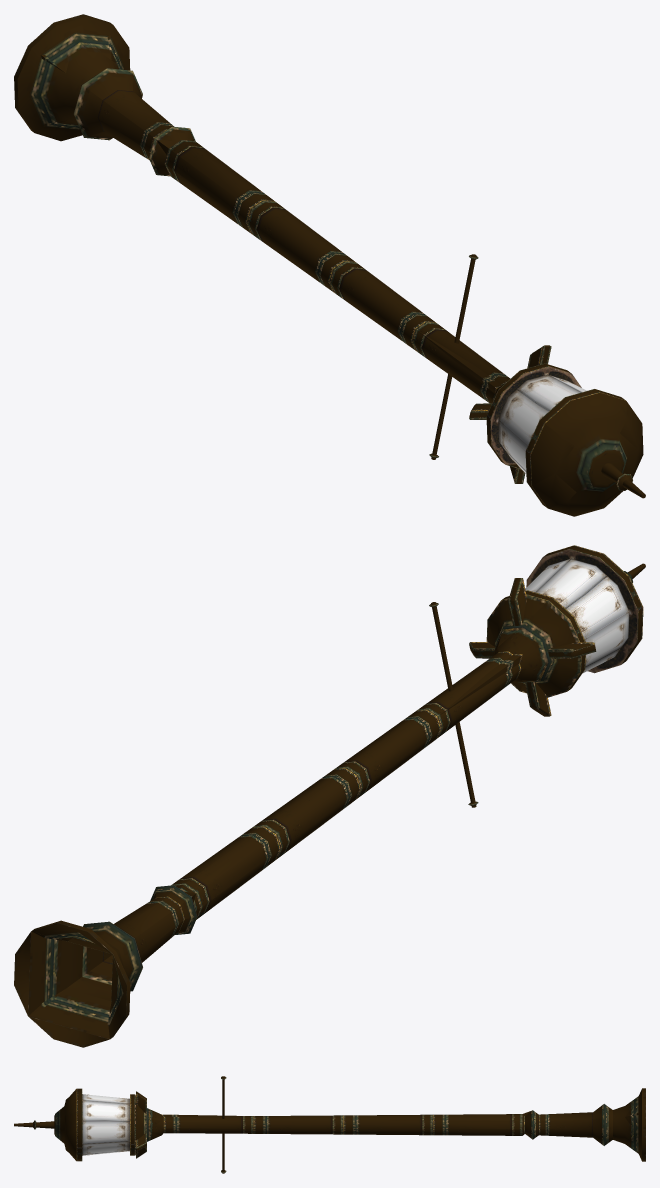
File: LampPostA_LOD2.fbx
3 views of the same model, one above another, from view 1: azimuth 30°, elevation 25°; view 2: azimuth 150°, elevation 25°; view 3: azimuth 270°, elevation 25° (orthographic). The views are drawn at different scales.
Visible parts, largest first — view 1: mdl_env_propLampPostA_LOD2; view 2: mdl_env_propLampPostA_LOD2; view 3: mdl_env_propLampPostA_LOD2.
Boxes of the visible parts, x1,y1,x2,y2 form: mdl_env_propLampPostA_LOD2: (14,14,645,516); mdl_env_propLampPostA_LOD2: (14,545,645,1047); mdl_env_propLampPostA_LOD2: (14,1076,645,1173).
Bounding box in the file's own units: 93.58 × 137 × 732.
